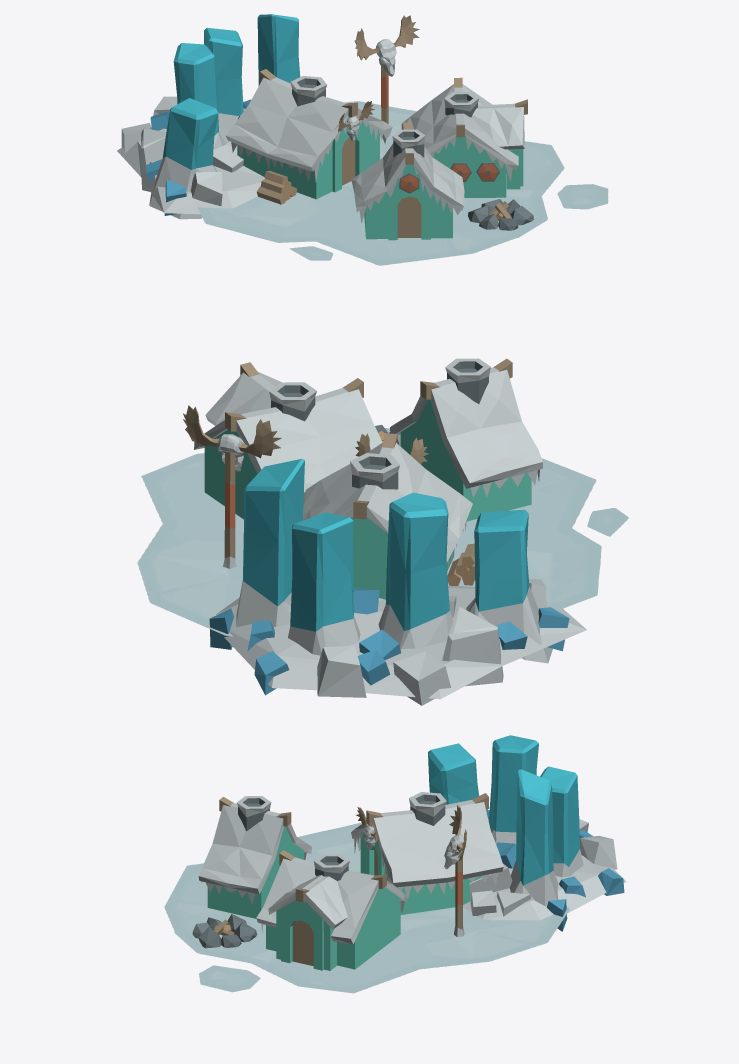
Rendered from townArctic02.fbx.
3 views of the same model, one above another, from view 1: azimuth 30°, elevation 25°; view 2: azimuth 150°, elevation 25°; view 3: azimuth 270°, elevation 25° (orthographic). The views are drawn at different scales.
Visible parts, largest first — view 1: townArctic02, groundDecal; view 2: townArctic02, groundDecal; view 3: townArctic02, groundDecal.
Boxes of the visible parts, left/top/right/bottom form: townArctic02: left=117, top=14, right=534, bottom=240; groundDecal: left=197, top=101, right=608, bottom=265; townArctic02: left=183, top=358, right=586, bottom=705; groundDecal: left=137, top=428, right=628, bottom=636; townArctic02: left=192, top=735, right=626, bottom=970; groundDecal: left=164, top=822, right=569, bottom=993.
Bounding box in the file's own units: 11.02 × 2.62 × 11.45.
